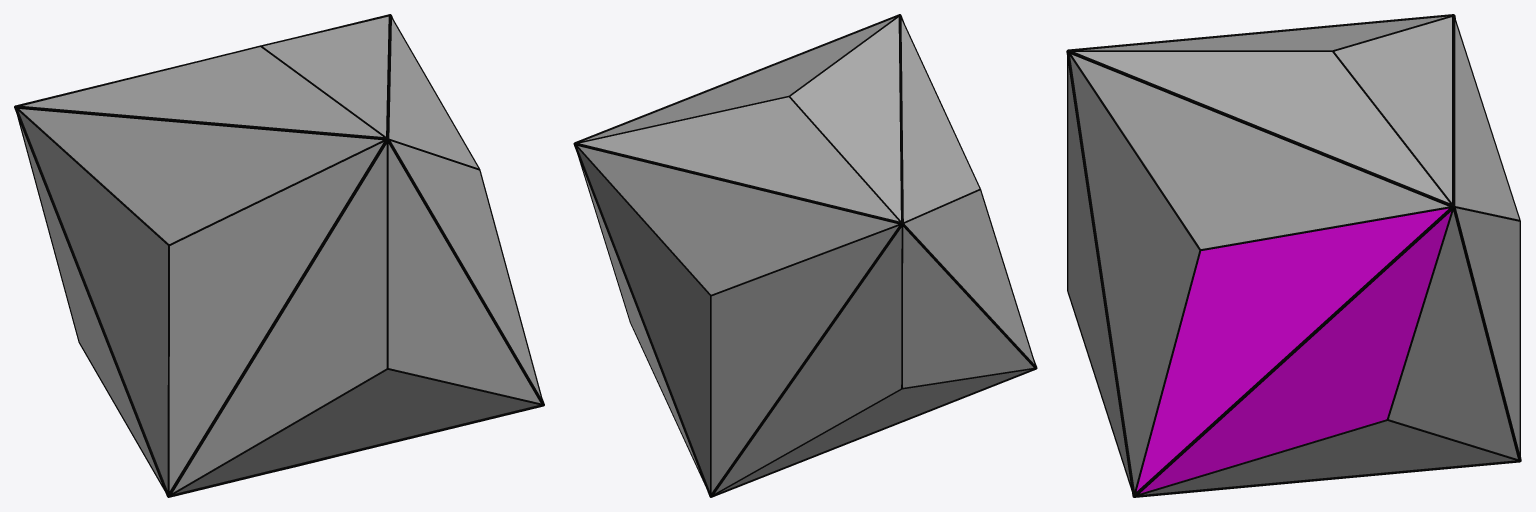
The model's file is polyformsTriOctRot_2_1.glb.
3 renders of one model, left to right at view 1: azimuth 30°, elevation 25°; view 2: azimuth 150°, elevation 25°; view 3: azimuth 270°, elevation 25°, orthographic. The views are drawn at different scales.
Size of the model in its own units: 3.44 by 3.44 by 3.44.
